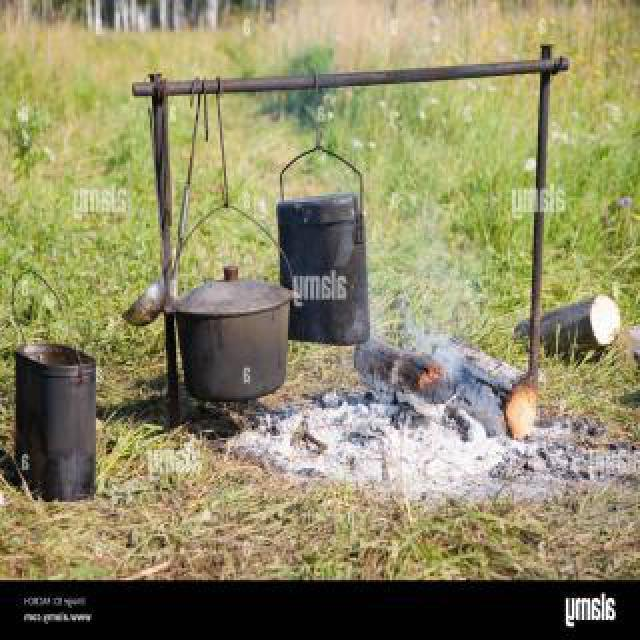Fire: (406, 362, 442, 398)
Smoke: (398, 186, 480, 370)
